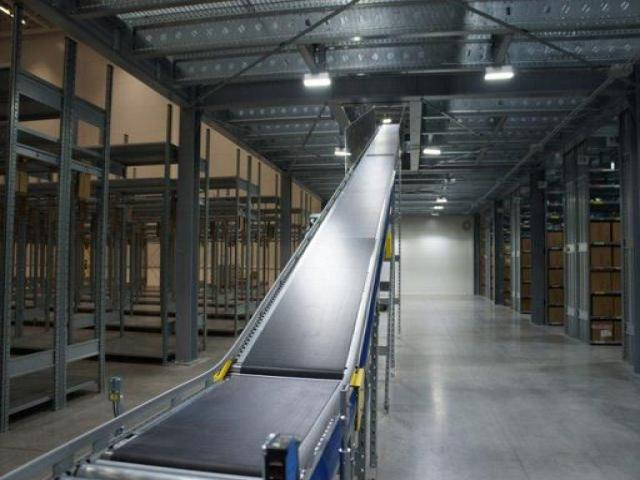conveyor: (77, 118, 437, 480)
